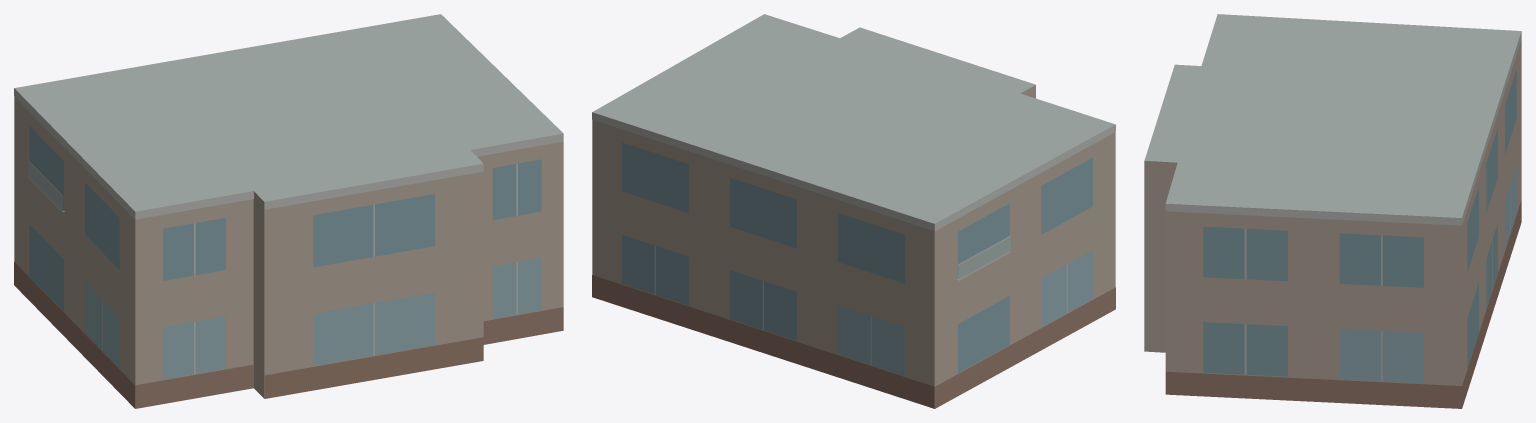
Rendered from survey-upis-32798501.glb.
3 renders of one model, left to right at view 1: azimuth 30°, elevation 25°; view 2: azimuth 150°, elevation 25°; view 3: azimuth 270°, elevation 25°, orthographic. The views are drawn at different scales.
Visible parts, largest first — view 1: survey-upis-32798501.tmp; view 2: survey-upis-32798501.tmp; view 3: survey-upis-32798501.tmp.
Part boxes in pixels (x1,y1,x2,y2): survey-upis-32798501.tmp: [14, 14, 563, 408]; survey-upis-32798501.tmp: [592, 14, 1115, 408]; survey-upis-32798501.tmp: [1144, 14, 1521, 408].
Bounding box in the file's own units: 14 × 6.1 × 10.94.
